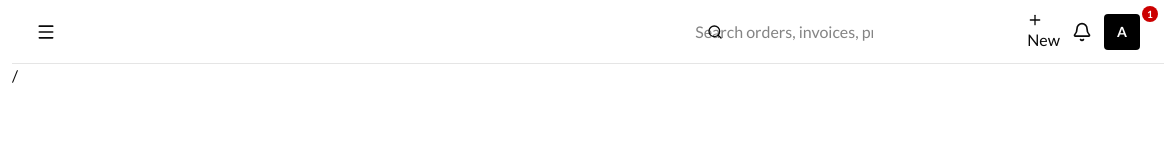
Scenario: bell badge reflects out-of-stock products, opens a panel on click, and items navigate
Check: the text "1" is shown, box [1142,6,1158,22]
Click the button named "notifications" at (1082, 32), box [1072,22,1092,42]
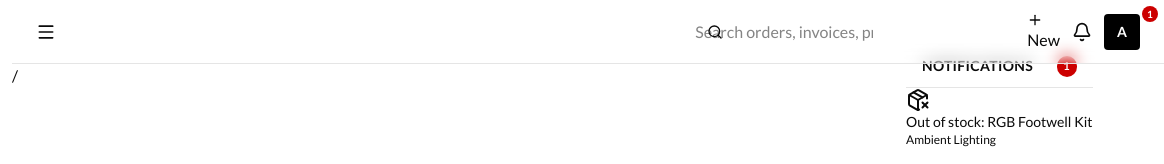
Check: the text "Out of stock: RGB Footwell Kit" is shown
Click the text "Out of stock: RGB Footwell Kit" at (999, 122), box [906,112,1092,132]
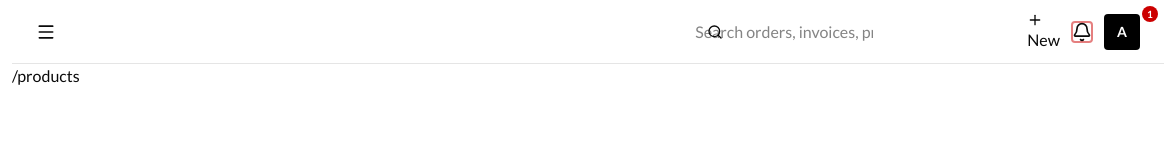
Check: the text with test id "loc" reads "/products", box [12,66,80,85]
